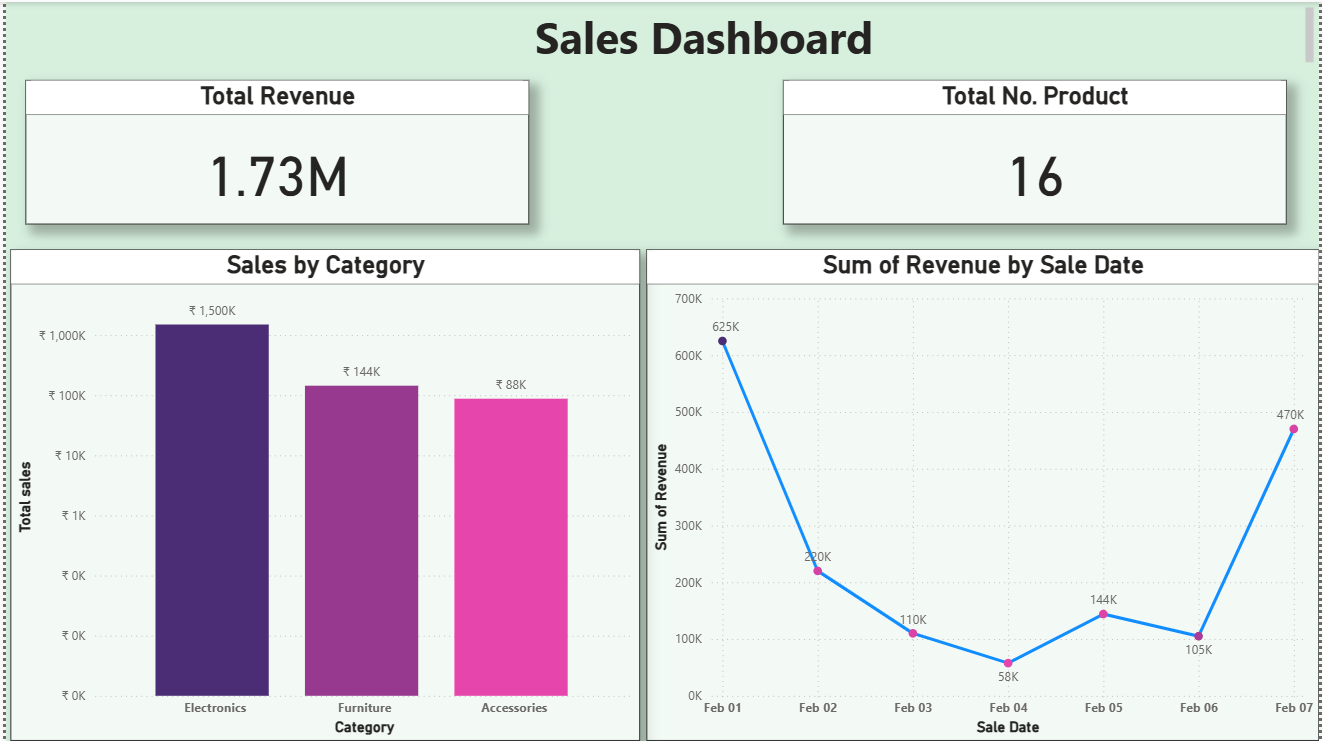

Layout of this report page (visuals, bound fields, positions):
{"tool":"powerbi","page":{"name":"Page 1","canvas":[1280,720],"ordinal":0},"visuals":[{"type":"clusteredColumnChart","title":"Sales by Category","fields":{"Category":["salesdb sales.Category"],"Y":["Sum(salesdb sales.Revenue)"]},"box":[4.5,240.8,613.3,478.5],"z":0},{"type":"lineChart","fields":{"Y":["Sum(salesdb sales.Revenue)"],"Category":["salesdb sales.SaleDate"]},"box":[623.9,240.8,655.7,478.5],"z":1000},{"type":"card","title":"Total Revenue","fields":{"Values":["Sum(salesdb sales.Revenue)"]},"box":[19.7,75.7,490.6,140.8],"z":2000},{"type":"textbox","box":[510.3,0,769.2,65.1],"z":3000},{"type":"card","title":"Total No. Product","fields":{"Values":["CountNonNull(salesdb sales.ProductName)"]},"box":[757.1,75.7,490.6,140.8],"z":4000}]}

Visuals, with their boxes in screenshot pixels (x1, y1, x2, y2), scaled from the page's 1280x720 canvas onto the 1322x741 screenshot:
"Sales by Category" clusteredColumnChart: bbox=(5, 248, 638, 740)
lineChart - Sum(salesdb sales.Revenue) x salesdb sales.SaleDate: bbox=(644, 248, 1321, 740)
"Total Revenue" card: bbox=(20, 78, 527, 223)
textbox: bbox=(527, 0, 1321, 67)
"Total No. Product" card: bbox=(782, 78, 1289, 223)
